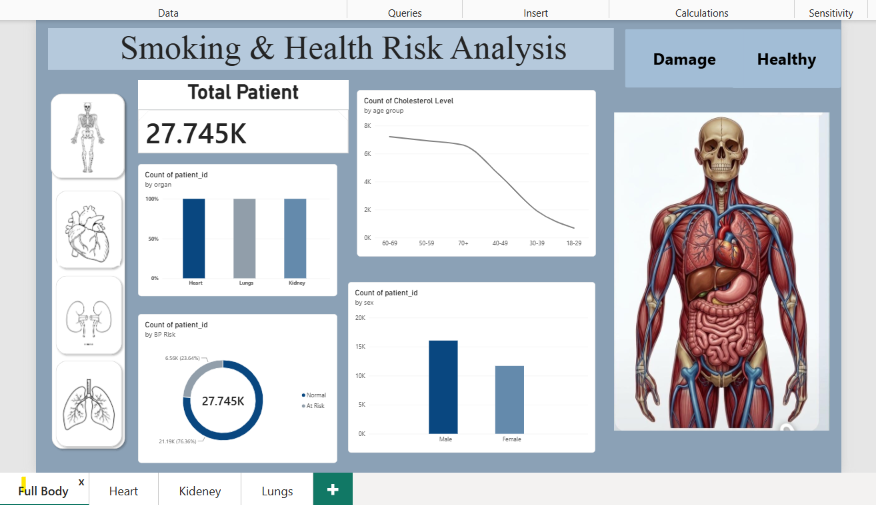

Layout of this report page (visuals, bound fields, positions):
{"tool":"powerbi","page":{"name":"Full Body ","canvas":[1920,1080],"ordinal":0},"visuals":[{"type":"textbox","box":[27.5,20,1350,100],"z":0},{"type":"actionButton","box":[27.5,167.5,192.5,865],"z":1000},{"type":"actionButton","box":[38.2,601.3,175,205],"z":2000},{"type":"actionButton","box":[37.5,397.5,175,202.5],"z":3000},{"type":"actionButton","box":[37.5,805,175,222.5],"z":4000},{"type":"cardVisual","title":"Total Patient","fields":{"Data":["Count(MODS_Clinical_3C_50K (3).patient_id)"]},"box":[242.5,142.5,502.5,175],"z":5000},{"type":"clusteredColumnChart","fields":{"Category":["MODS_Clinical_3C_50K (3).sex"],"Y":["Count(MODS_Clinical_3C_50K (3).patient_id)"]},"box":[745,625,590,407.5],"z":6000},{"type":"lineChart","fields":{"Category":["MODS_Clinical_3C_50K (3).age group"],"Y":["CountNonNull(MODS_Clinical_3C_50K (3).Cholesterol Level)"]},"box":[765,167.5,570,397.5],"z":7000},{"type":"donutChart","fields":{"Category":["MODS_Clinical_3C_50K (3).BP Risk"],"Y":["CountNonNull(MODS_Clinical_3C_50K (3).patient_id)"]},"box":[242.5,702.5,475,355],"z":8000},{"type":"hundredPercentStackedColumnChart","fields":{"Category":["MODS_Clinical_3C_50K (3).organ"],"Y":["Count(MODS_Clinical_3C_50K (3).patient_id)"]},"box":[242.5,342.5,475,315],"z":9000},{"type":"image","title":"healthy","box":[1379.1,167,515.4,866.1],"z":11000},{"type":"actionButton","box":[1660.6,21.5,260.1,140.8],"z":14000},{"type":"actionButton","box":[1405,21.3,283.4,140.2],"z":15000},{"type":"actionButton","box":[26.2,167,193.4,219.2],"z":17000}]}

Visuals, with their boxes on the page's 1920x1080 design canvas (x1, y1, x2, y2). These are canvas units, not pixel positions in the 876x505 screenshot, which may show the page scaled, cropped or inside an application window:
textbox: 28/20/1378/120
actionButton: 28/168/220/1032
actionButton: 38/601/213/806
actionButton: 38/398/212/600
actionButton: 38/805/212/1028
"Total Patient" cardVisual: 242/142/745/318
clusteredColumnChart - MODS_Clinical_3C_50K (3).sex x Count(MODS_Clinical_3C_50K (3).patient_id): 745/625/1335/1032
lineChart - MODS_Clinical_3C_50K (3).age group x CountNonNull(MODS_Clinical_3C_50K (3).Cholesterol Level): 765/168/1335/565
donutChart - MODS_Clinical_3C_50K (3).BP Risk x CountNonNull(MODS_Clinical_3C_50K (3).patient_id): 242/702/718/1058
hundredPercentStackedColumnChart - MODS_Clinical_3C_50K (3).organ x Count(MODS_Clinical_3C_50K (3).patient_id): 242/342/718/658
"healthy" image: 1379/167/1894/1033
actionButton: 1661/22/1921/162
actionButton: 1405/21/1688/162
actionButton: 26/167/220/386
